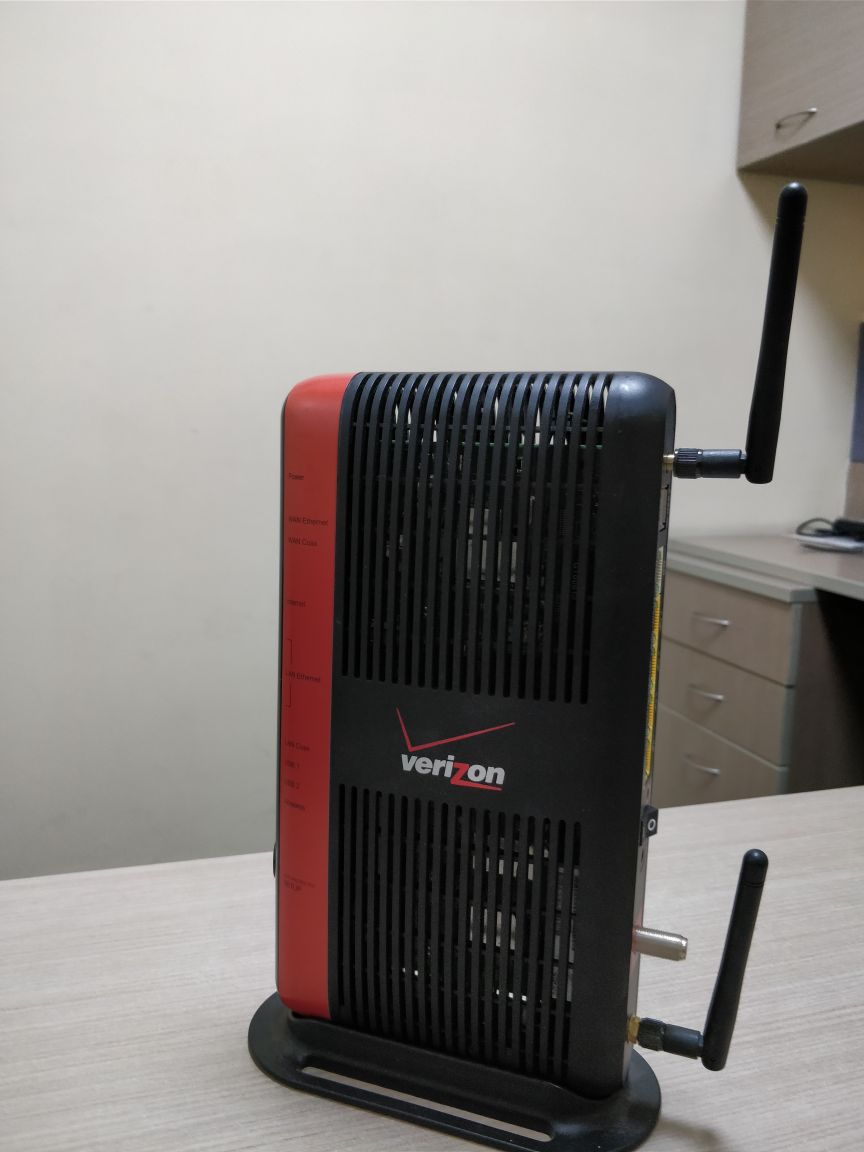Verizon Router: (200, 305, 825, 1152)
